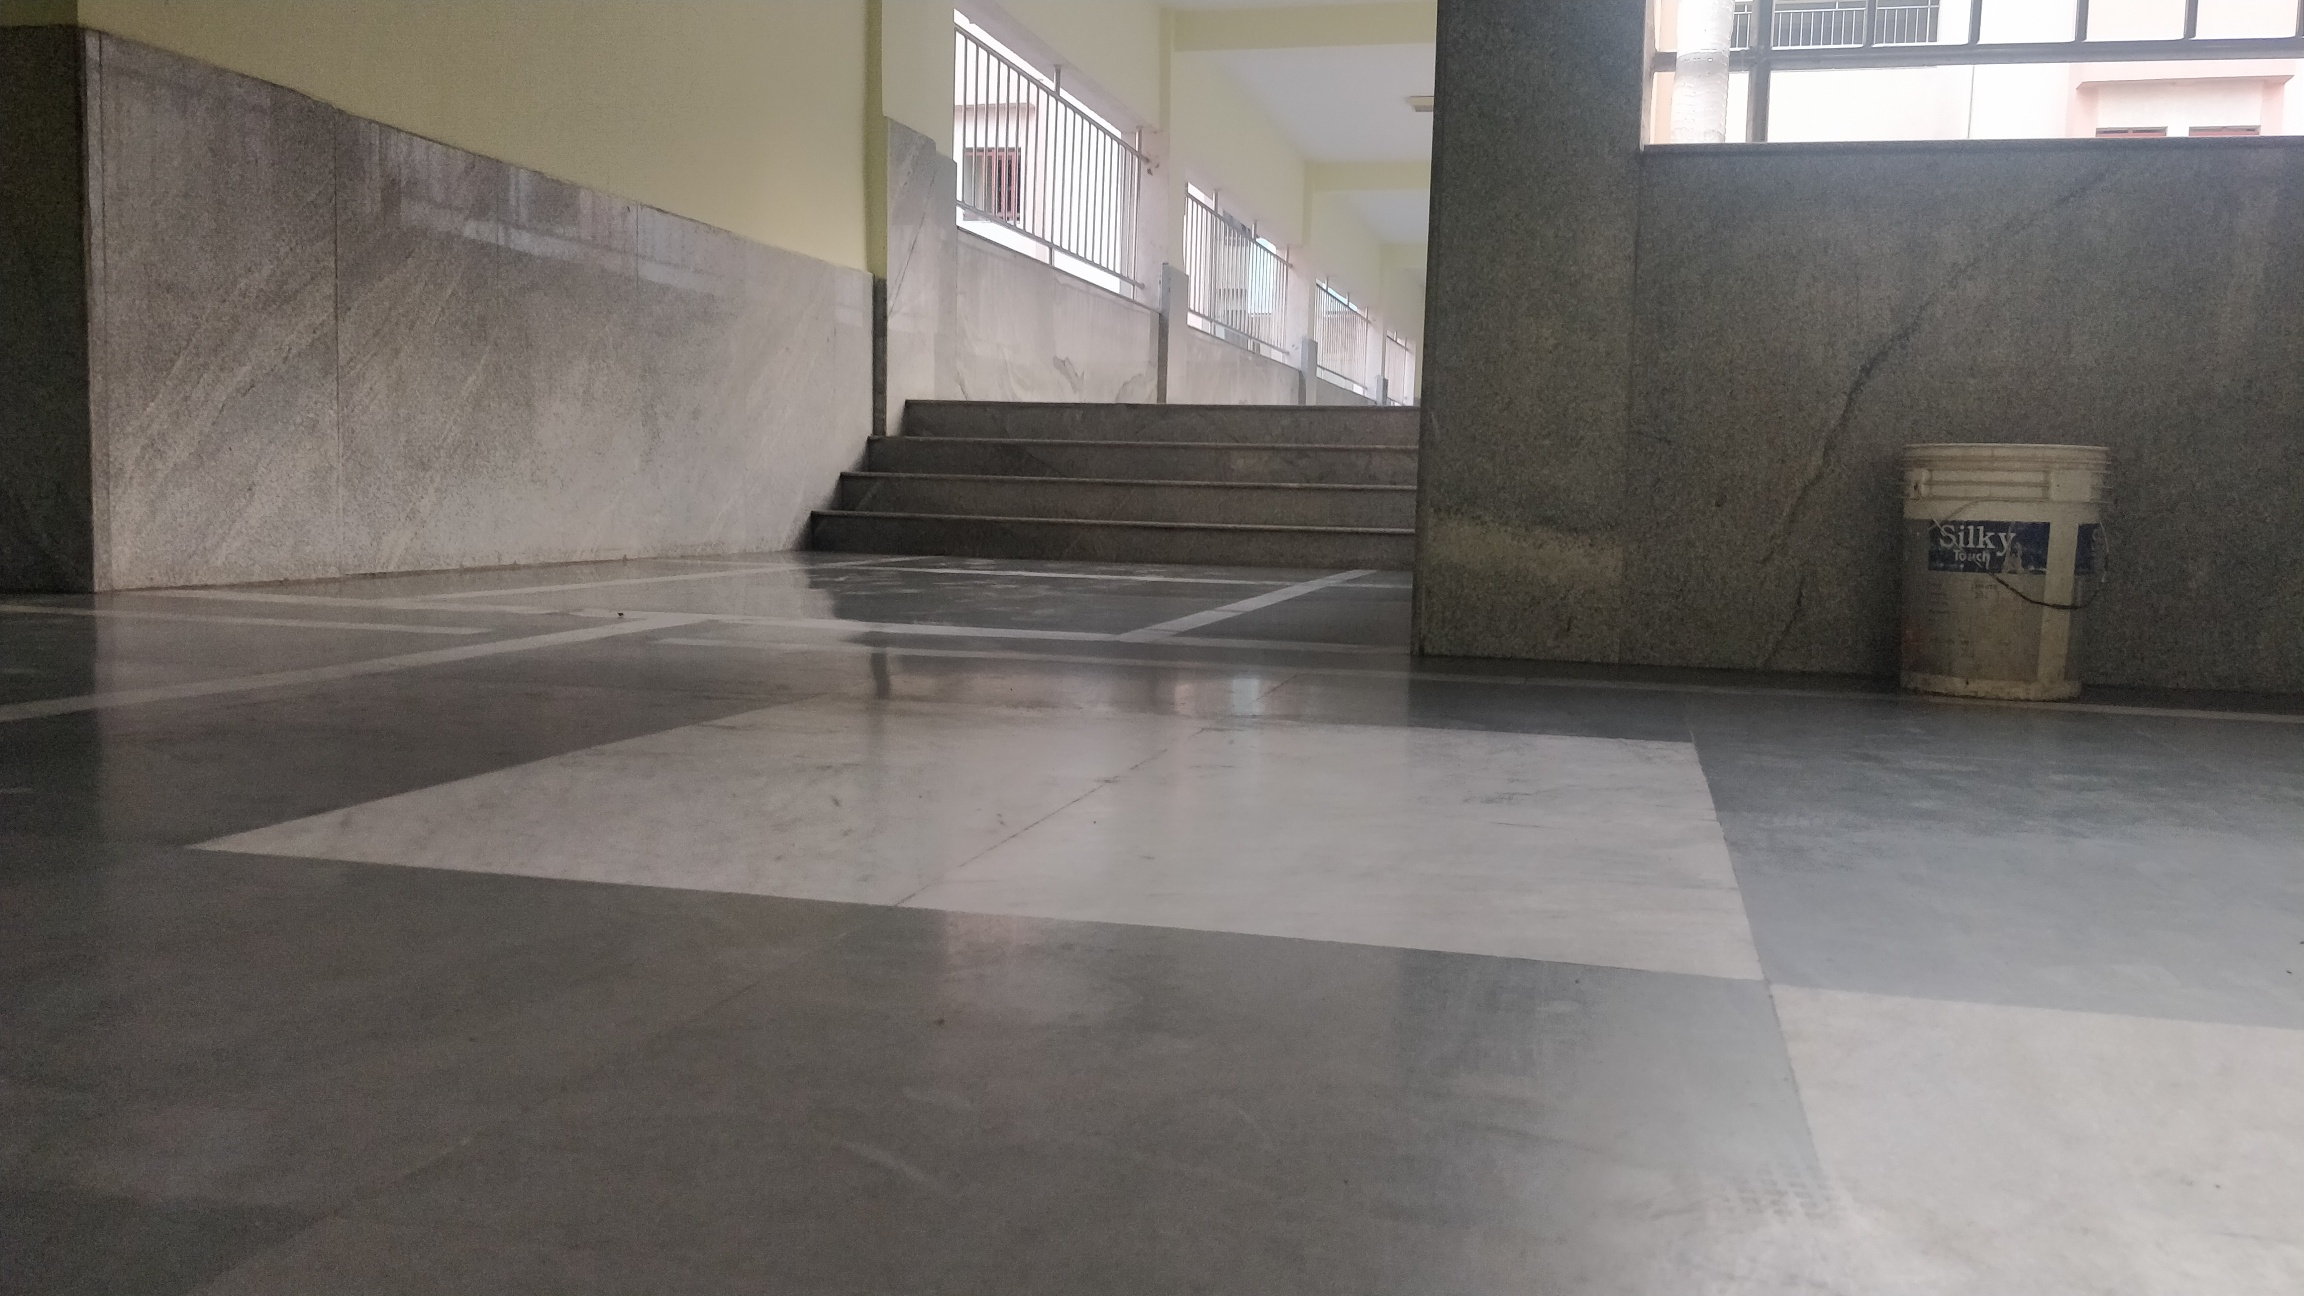stairs_up: (794, 392, 1418, 557)
